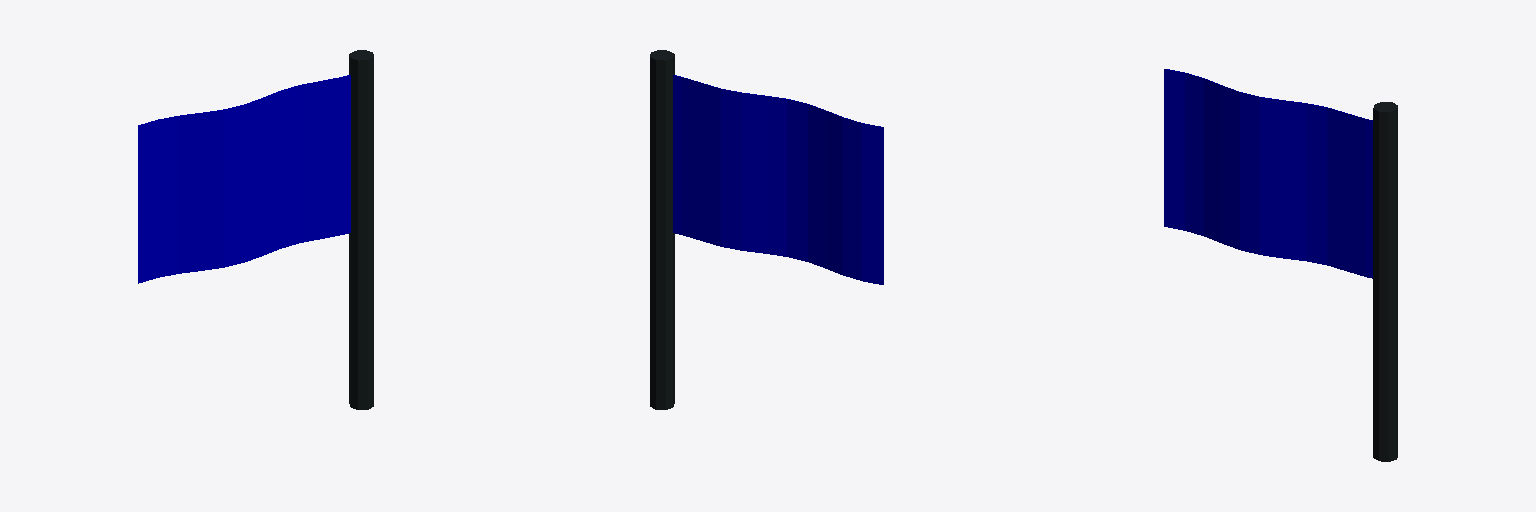
Rendered from flag_basic.sgm.obj.
The picture shows the model from 3 angles: view 1: azimuth 30°, elevation 25°; view 2: azimuth 150°, elevation 25°; view 3: azimuth 330°, elevation 25°; orthographic projection.
Parts seen in each view (by area): view 1: 1, 0; view 2: 1, 0; view 3: 1, 0.
Boxes of the visible parts, x1=… form: 1: x1=138, y1=75, x2=350, y2=283; 0: x1=349, y1=50, x2=373, y2=409; 1: x1=673, y1=75, x2=883, y2=284; 0: x1=650, y1=50, x2=674, y2=409; 1: x1=1164, y1=69, x2=1372, y2=278; 0: x1=1373, y1=102, x2=1397, y2=461.
Bounding box in the file's own units: 0.42 × 0.6 × 0.04.